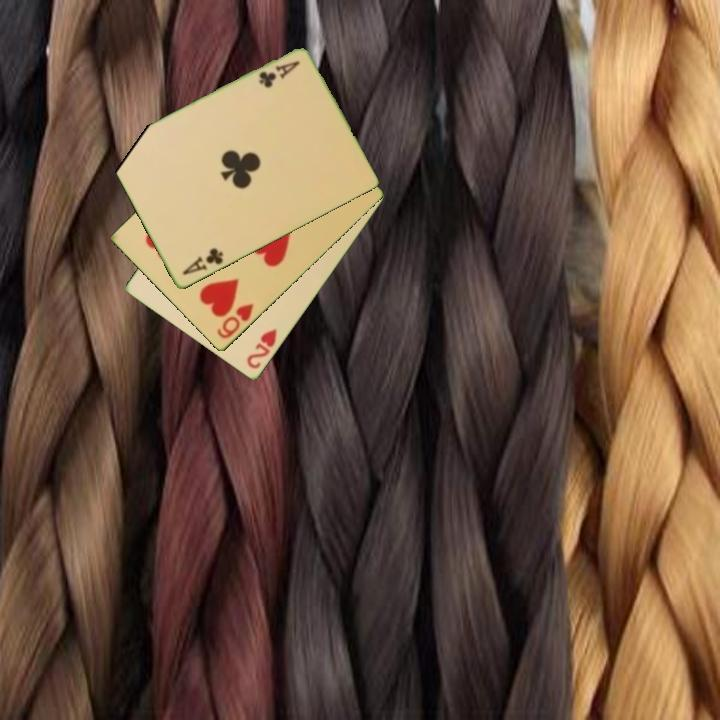2h: (243, 325, 280, 372)
6h: (213, 300, 257, 342)
Ac: (179, 244, 226, 278), (255, 58, 303, 91)
